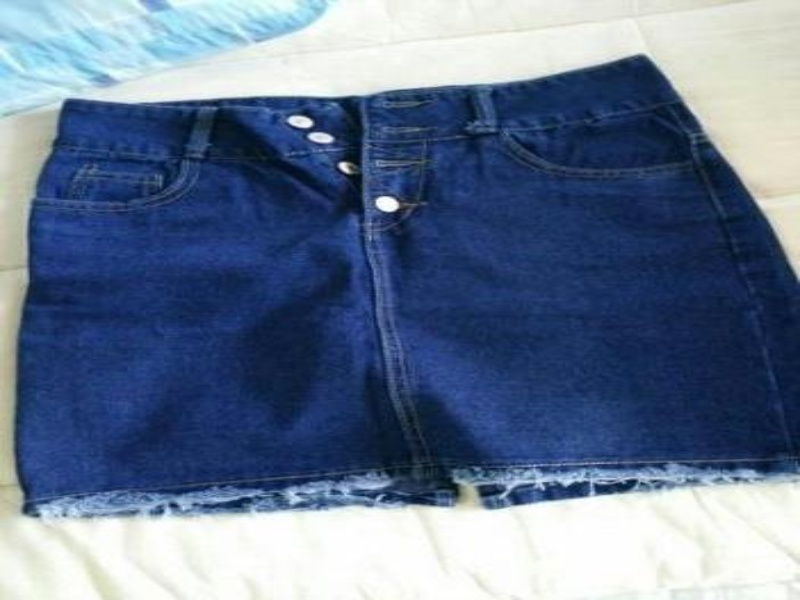skirt: (9, 54, 798, 521)
